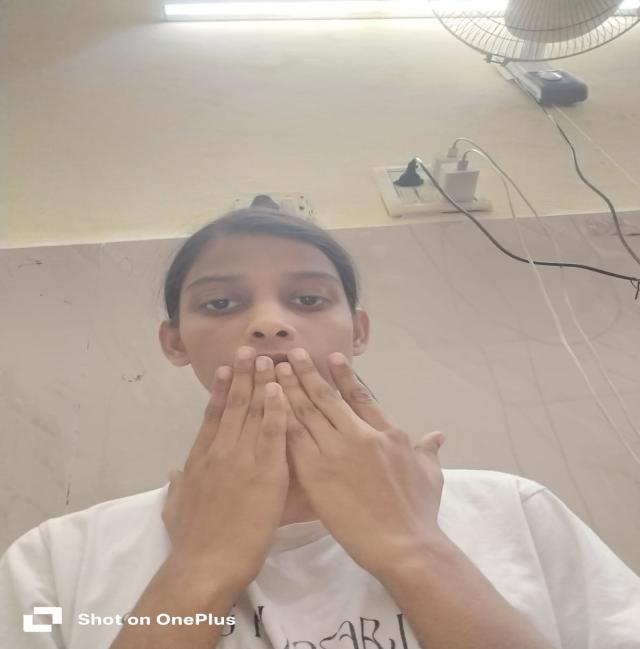Thanks: (150, 336, 477, 569)
